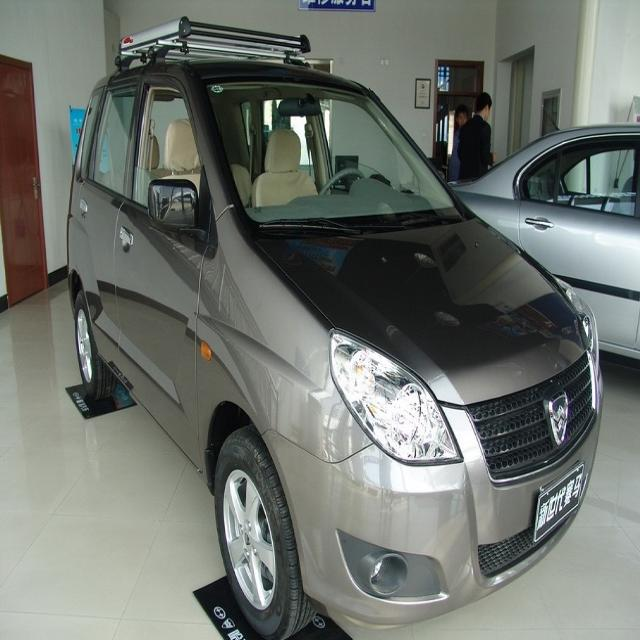door: (82, 76, 146, 356)
front_bumper: (252, 393, 599, 628)
front_glass: (201, 75, 459, 226)
front_left_side_light: (562, 277, 602, 413)
front_right_side_door: (111, 70, 214, 483)
front_right_side_light: (328, 322, 466, 469)
front_right_side_mirror: (147, 174, 206, 238)
wheel: (214, 419, 318, 640), (74, 289, 118, 405)
